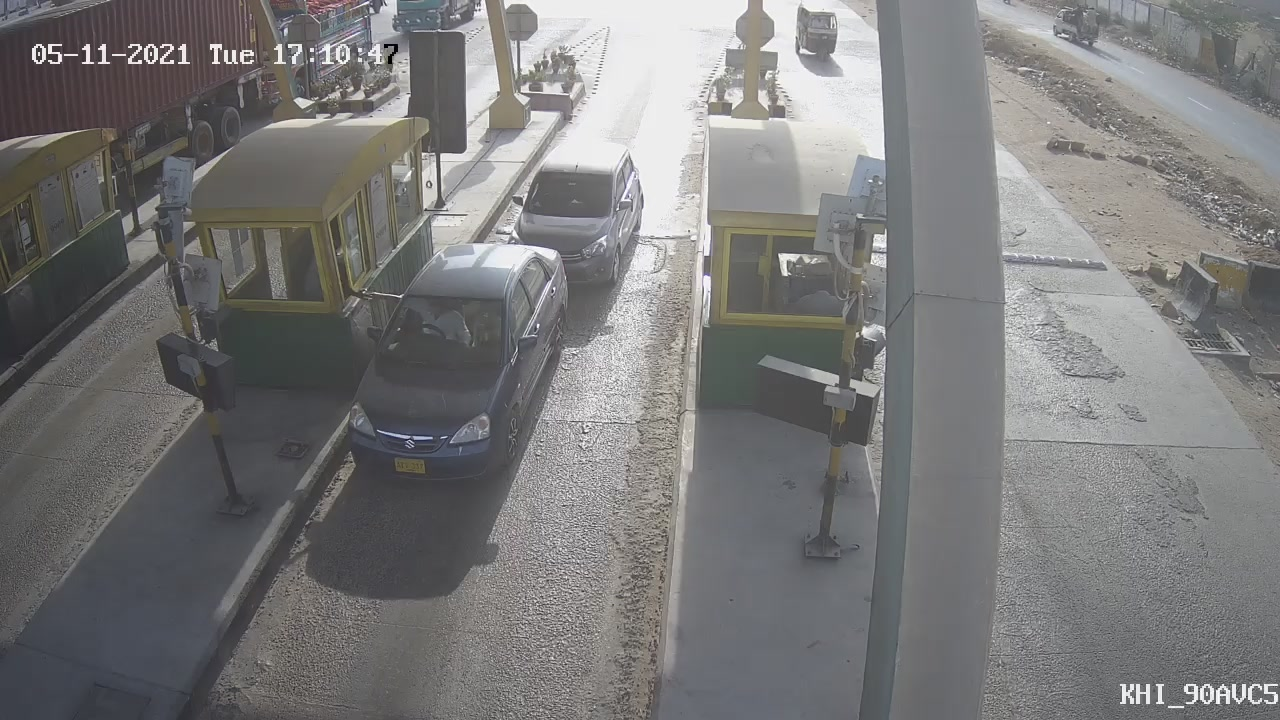F1: (334, 230, 589, 505), (494, 125, 660, 301)
